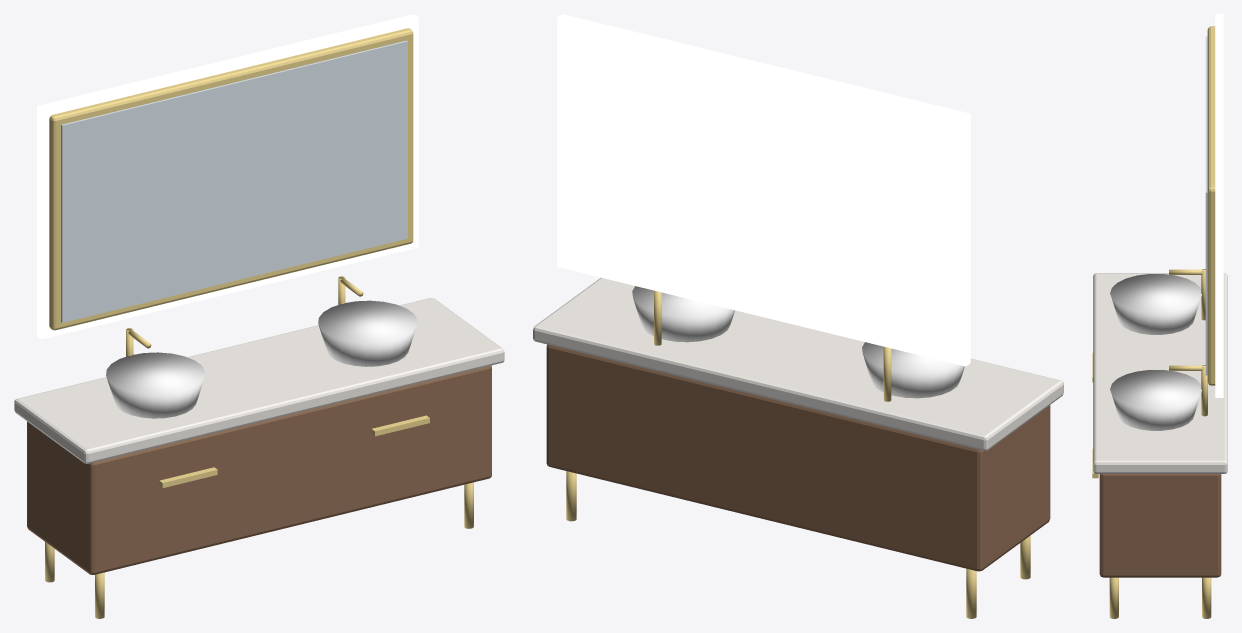
File: hotel_vanity_sink.glb
The picture shows the model from 3 angles, left to right: view 1: azimuth 30°, elevation 25°; view 2: azimuth 150°, elevation 25°; view 3: azimuth 270°, elevation 25°; orthographic projection. The views are drawn at different scales.
Visible parts, largest first — view 1: VanityCab; view 2: VanityCab; view 3: VanityCab.
Boxes of the visible parts, x1,y1,x2,y2 form: VanityCab: [14, 14, 504, 618]; VanityCab: [533, 14, 1063, 618]; VanityCab: [1092, 14, 1227, 618].
Bounding box in the file's own units: 2.14 × 2.28 × 0.645.
